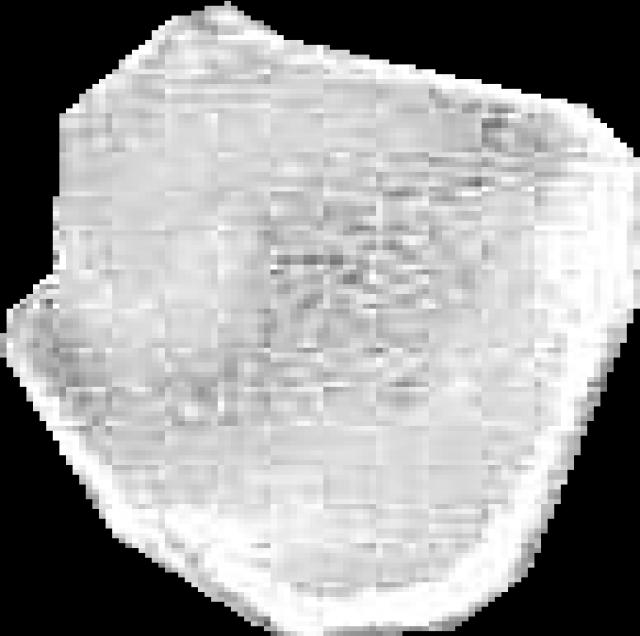tumor_less_chance: (0, 1, 640, 636)
